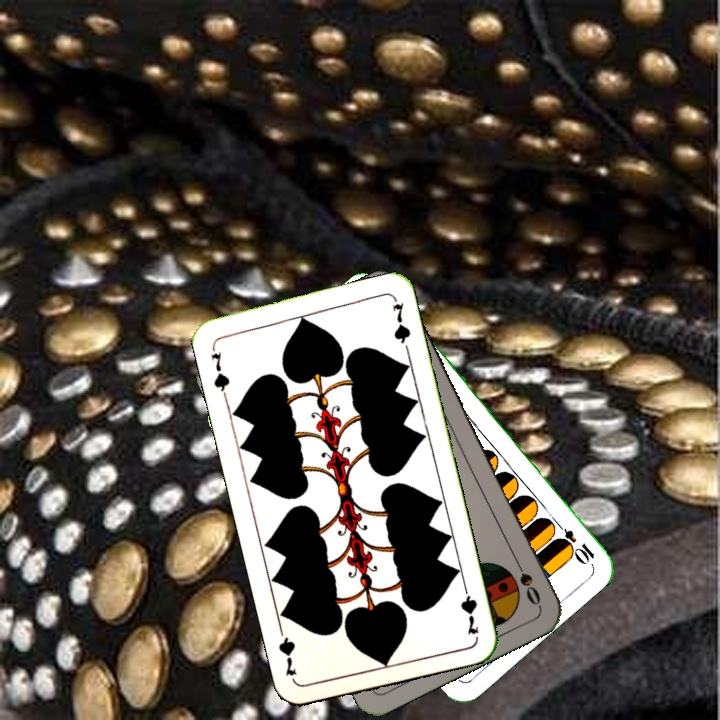E10: (549, 516, 598, 565)
G7: (456, 579, 482, 638), (207, 341, 232, 399)
SO: (510, 553, 543, 608)
